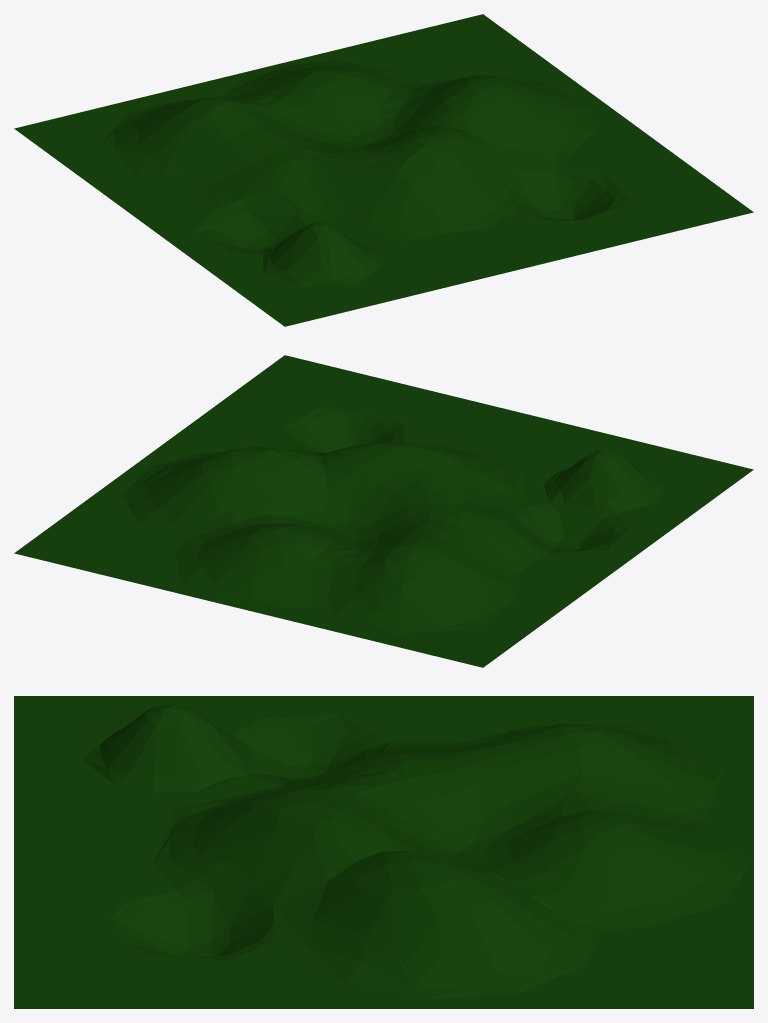
Rendered from Terrain_Part_Plane_2.fbx.
3 renders of one model, top to bottom at view 1: azimuth 30°, elevation 25°; view 2: azimuth 150°, elevation 25°; view 3: azimuth 270°, elevation 25°, orthographic. The views are drawn at different scales.
Visible parts, largest first — view 1: Terrain_Part_Plane_2; view 2: Terrain_Part_Plane_2; view 3: Terrain_Part_Plane_2.
Boxes of the visible parts, x1,y1,x2,y2 form: Terrain_Part_Plane_2: (14,14,753,326); Terrain_Part_Plane_2: (14,355,753,667); Terrain_Part_Plane_2: (14,696,753,1008).
Size of the model in its own units: 2000 by 270 by 2000.
